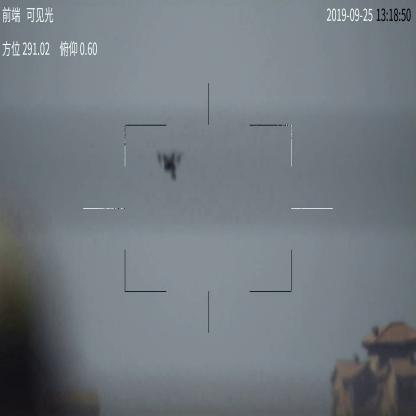uav: (157, 152, 186, 179)
